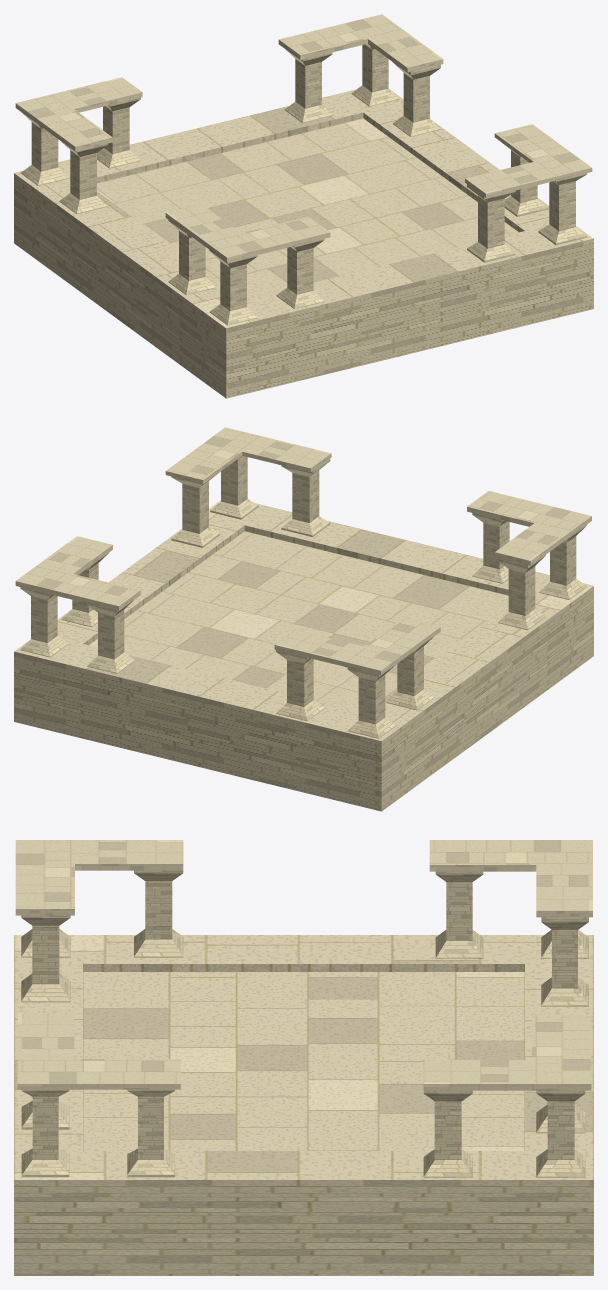
Rendered from Platform_1.gltf.
3 views of the same model, one above another, from view 1: azimuth 30°, elevation 25°; view 2: azimuth 150°, elevation 25°; view 3: azimuth 270°, elevation 25° (orthographic). The views are drawn at different scales.
Parts seen in each view (by area): view 1: Platform_1; view 2: Platform_1; view 3: Platform_1.
Boxes of the visible parts, <box> form: Platform_1: <box>14,14,593,398</box>; Platform_1: <box>14,427,593,811</box>; Platform_1: <box>14,840,593,1275</box>.
Bounding box in the file's own units: 5.24 × 1.91 × 5.24.
2 materials, 2 textured.
